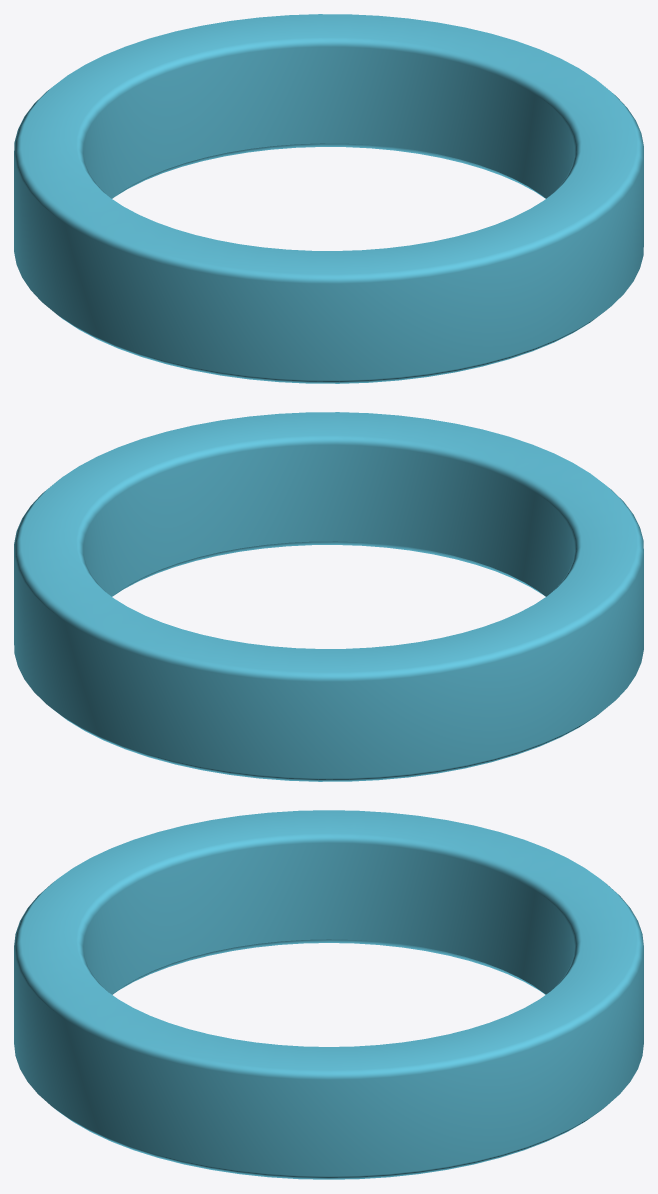
The picture shows the model from 3 angles, top to bottom: view 1: azimuth 30°, elevation 25°; view 2: azimuth 150°, elevation 25°; view 3: azimuth 270°, elevation 25°; orthographic projection.
Visible parts, largest first — view 1: seal_body; view 2: seal_body; view 3: seal_body.
Boxes of the visible parts, box(x1,y1,x2,y2) form: seal_body: box(14, 14, 643, 383); seal_body: box(14, 412, 643, 781); seal_body: box(14, 810, 643, 1179).
Bounding box in the file's own units: 0.0417 × 0.008 × 0.0417.
